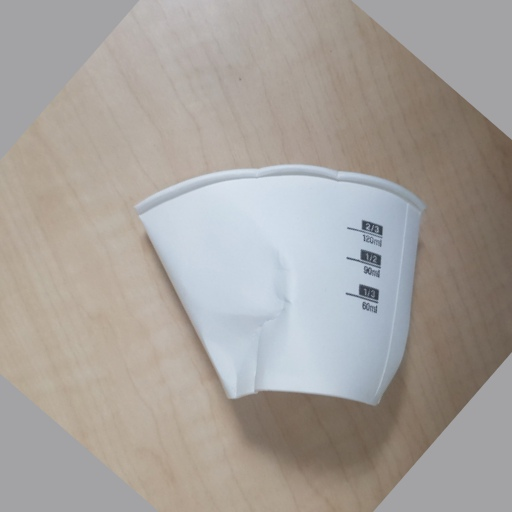Paper_1: (136, 164, 428, 408)
